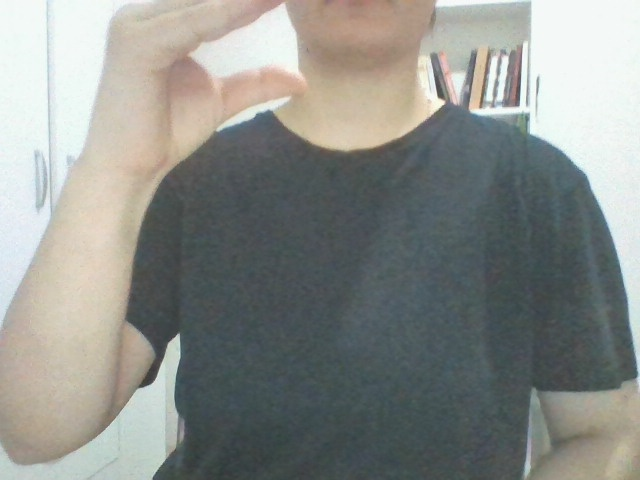No: (50, 1, 346, 180)
